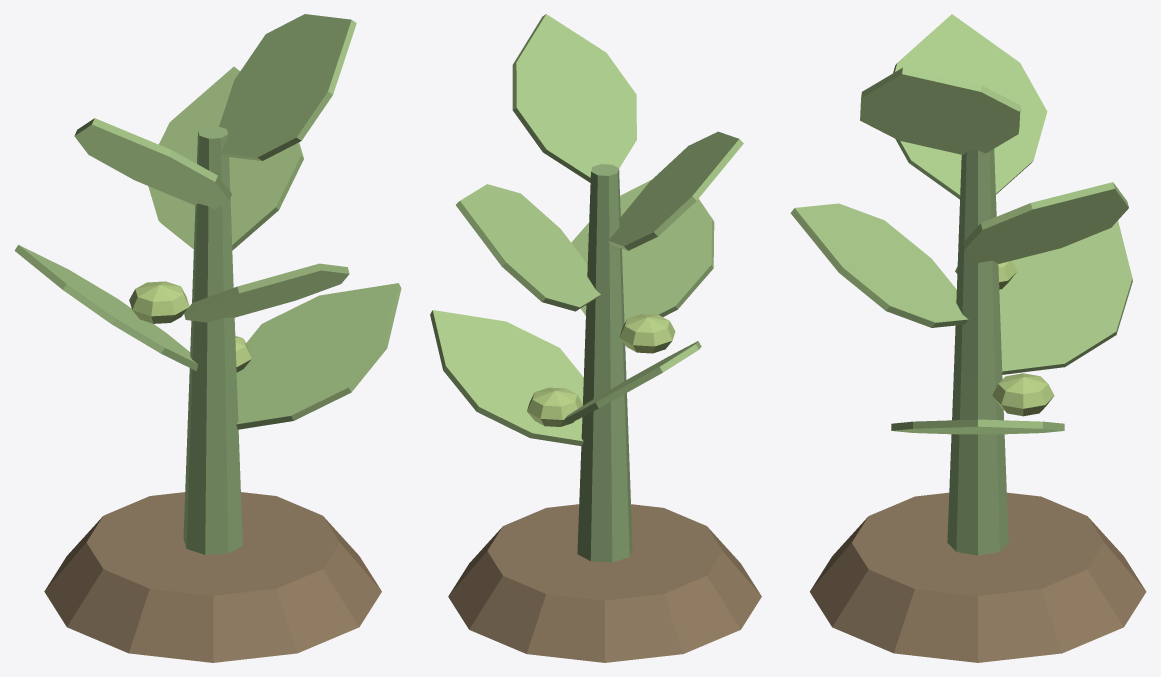
File: 33-Agricultura_cultivo_madura.glb
3 renders of one model, left to right at view 1: azimuth 30°, elevation 25°; view 2: azimuth 150°, elevation 25°; view 3: azimuth 270°, elevation 25°, orthographic. The views are drawn at different scales.
Visible parts, largest first — view 1: SM_Cultivo_Monticulo, SM_Cultivo_Tallo, SM_Cultivo_Hoja_0, SM_Cultivo_Hoja_5, SM_Cultivo_Hoja_3, SM_Cultivo_Hoja_4, SM_Cultivo_Hoja_2, SM_Cultivo_Hoja_1, SM_Cultivo_Fruto_1; view 2: SM_Cultivo_Monticulo, SM_Cultivo_Tallo, SM_Cultivo_Hoja_5, SM_Cultivo_Hoja_0, SM_Cultivo_Hoja_3, SM_Cultivo_Hoja_2, SM_Cultivo_Hoja_4, SM_Cultivo_Fruto_1, SM_Cultivo_Hoja_1, SM_Cultivo_Fruto_0; view 3: SM_Cultivo_Monticulo, SM_Cultivo_Tallo, SM_Cultivo_Hoja_1, SM_Cultivo_Hoja_2, SM_Cultivo_Hoja_4, SM_Cultivo_Hoja_5, SM_Cultivo_Hoja_3, SM_Cultivo_Hoja_0, SM_Cultivo_Fruto_0.
Boxes of the visible parts, x1,y1,x2,y2 form: SM_Cultivo_Monticulo: (44, 492, 381, 662); SM_Cultivo_Tallo: (183, 126, 242, 554); SM_Cultivo_Hoja_0: (236, 283, 401, 429); SM_Cultivo_Hoja_5: (219, 14, 356, 160); SM_Cultivo_Hoja_3: (148, 66, 303, 250); SM_Cultivo_Hoja_4: (74, 118, 231, 209); SM_Cultivo_Hoja_2: (184, 263, 349, 322); SM_Cultivo_Hoja_1: (14, 245, 197, 371); SM_Cultivo_Fruto_1: (129, 281, 189, 323); SM_Cultivo_Monticulo: (448, 504, 761, 662); SM_Cultivo_Tallo: (577, 164, 632, 562); SM_Cultivo_Hoja_5: (512, 14, 636, 182); SM_Cultivo_Hoja_0: (430, 310, 583, 446); SM_Cultivo_Hoja_3: (456, 184, 600, 311); SM_Cultivo_Hoja_2: (571, 179, 714, 322); SM_Cultivo_Hoja_4: (607, 131, 743, 250); SM_Cultivo_Fruto_1: (619, 314, 675, 353); SM_Cultivo_Hoja_1: (565, 341, 701, 424); SM_Cultivo_Fruto_0: (527, 387, 582, 426); SM_Cultivo_Monticulo: (810, 492, 1146, 662); SM_Cultivo_Tallo: (947, 149, 1008, 555); SM_Cultivo_Hoja_1: (999, 221, 1132, 374); SM_Cultivo_Hoja_2: (790, 203, 968, 327); SM_Cultivo_Hoja_4: (893, 14, 1047, 199); SM_Cultivo_Hoja_5: (860, 67, 1020, 154); SM_Cultivo_Hoja_3: (963, 182, 1128, 263); SM_Cultivo_Hoja_0: (891, 419, 1064, 434); SM_Cultivo_Fruto_0: (992, 373, 1054, 416).
Bounding box in the file's own units: 0.3203 × 0.5258 × 0.2959.
